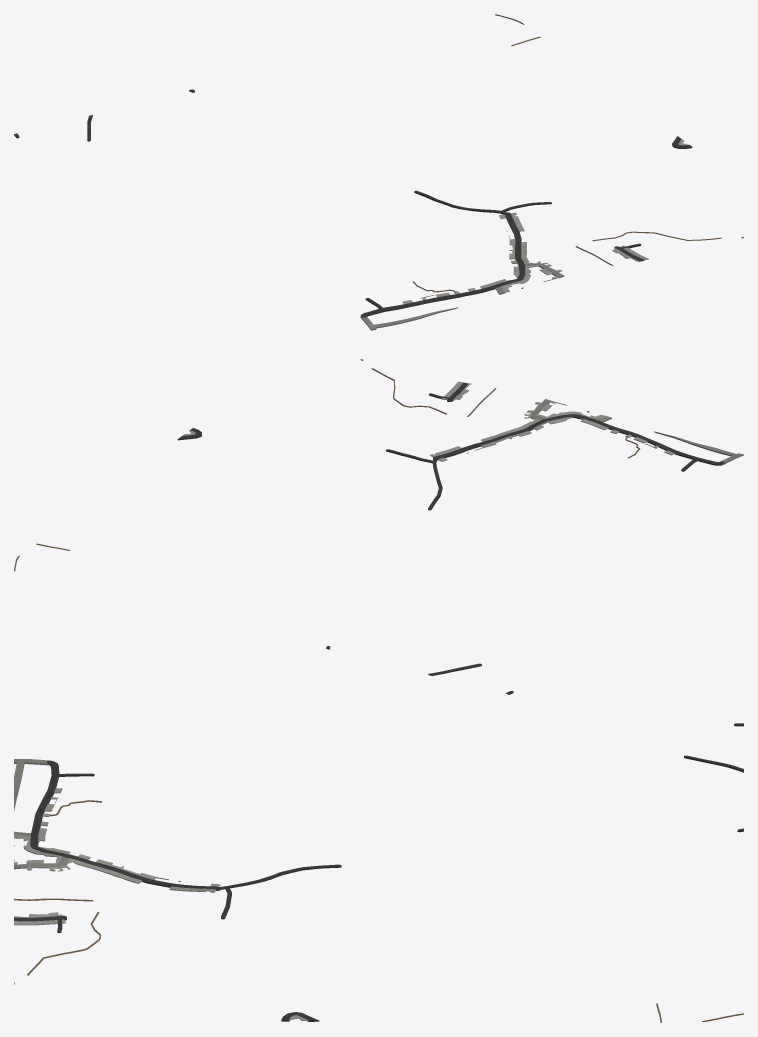
Rendered from 16-54719-29731.bf2cdf92.glb.
3 views of the same model, one above another, from view 1: azimuth 30°, elevation 25°; view 2: azimuth 150°, elevation 25°; view 3: azimuth 270°, elevation 25° (orthographic). The views are drawn at different scales.
Size of the model in its own units: 568 by 13.74 by 583.
